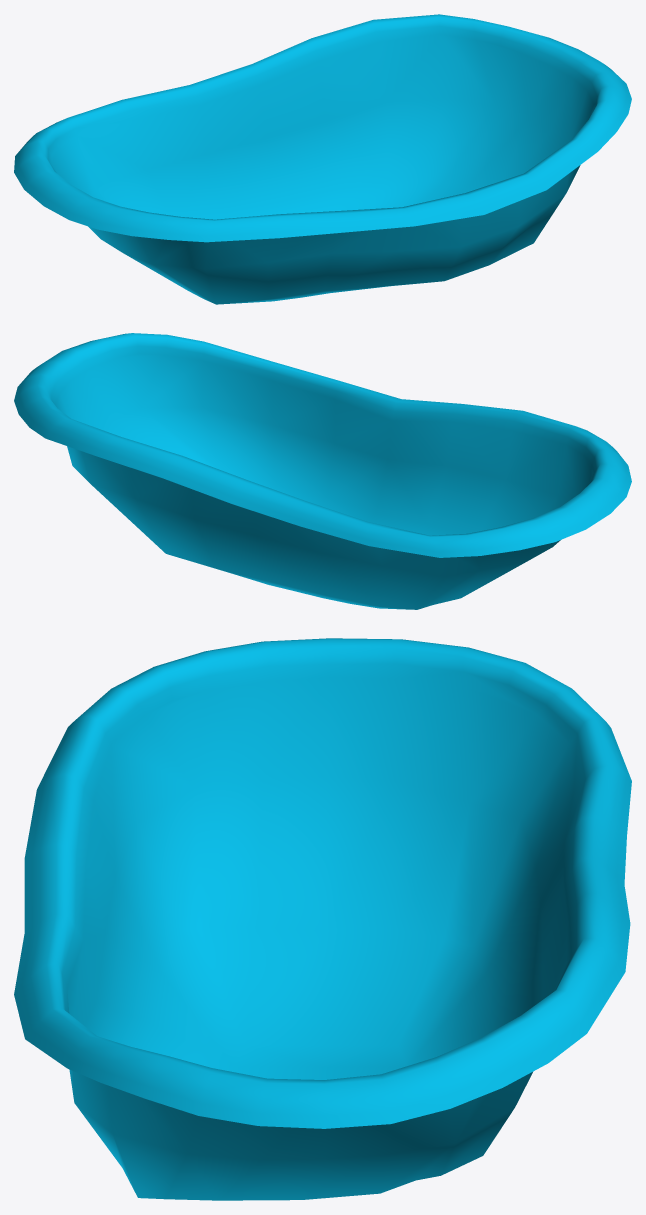
File: BAIGNOIRE_v02.glb
The picture shows the model from 3 angles, top to bottom: view 1: azimuth 30°, elevation 25°; view 2: azimuth 150°, elevation 25°; view 3: azimuth 270°, elevation 25°; orthographic projection. The views are drawn at different scales.
Visible parts, largest first — view 1: Cube; view 2: Cube; view 3: Cube.
Boxes of the visible parts, x1,y1,x2,y2 form: Cube: [14, 14, 631, 304]; Cube: [14, 333, 631, 609]; Cube: [14, 638, 631, 1200].
Size of the model in its own units: 14.32 by 3.91 by 7.77.
